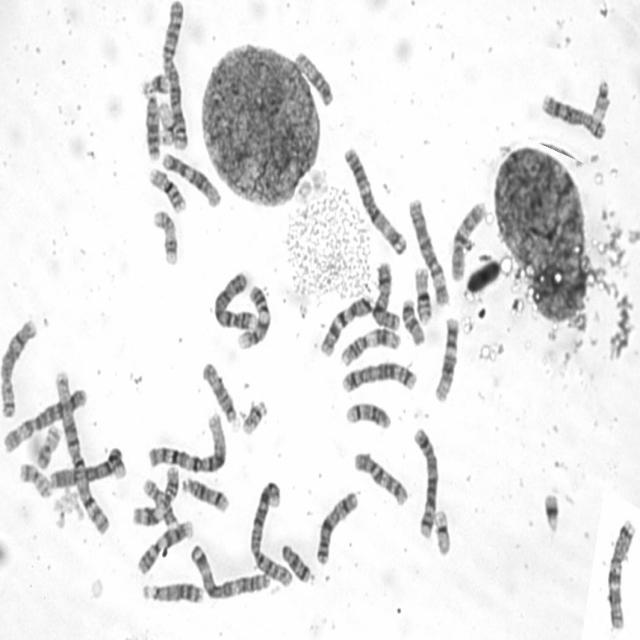A1: (51, 366, 112, 535), (146, 409, 228, 475)
A2: (248, 478, 294, 587), (160, 0, 190, 150)
A3: (340, 144, 408, 256), (187, 540, 272, 601)
B4: (47, 444, 128, 490), (212, 268, 256, 330)
B5: (410, 424, 440, 540), (340, 359, 418, 394)
C10: (351, 446, 410, 508), (448, 198, 488, 282)
C11: (130, 462, 180, 529), (338, 324, 403, 368)
C12: (160, 148, 222, 209), (432, 314, 461, 404)
C6: (0, 384, 86, 456), (406, 195, 451, 307)
C7: (603, 516, 636, 632), (318, 293, 374, 356)
C8: (0, 316, 38, 420), (539, 91, 607, 141)
C9: (135, 518, 196, 576), (235, 282, 272, 351)
D13: (140, 579, 206, 606), (144, 90, 162, 161)
D14: (180, 473, 230, 513), (343, 399, 393, 431)
D15: (200, 358, 238, 426), (292, 48, 334, 108)
E16: (146, 164, 188, 214), (412, 264, 434, 326)
E17: (142, 477, 180, 532), (151, 206, 180, 268)
E18: (280, 540, 312, 583), (400, 296, 426, 348)
F19: (432, 505, 452, 557), (157, 98, 175, 146)
F20: (17, 460, 53, 500), (34, 422, 62, 470)
G21: (540, 488, 562, 534), (140, 70, 171, 98)
G22: (240, 397, 268, 436), (589, 76, 612, 122)
X: (313, 486, 360, 568), (370, 260, 402, 331)
